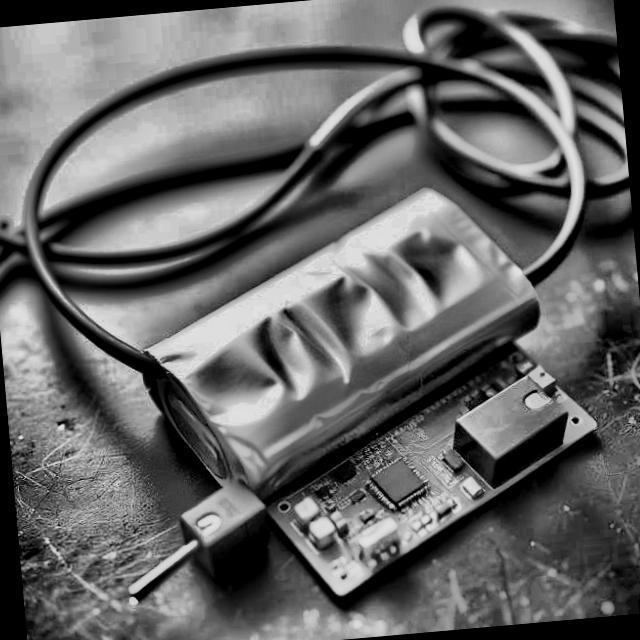Battery: (135, 181, 550, 506)
Cable: (0, 1, 630, 366)
PCB: (256, 336, 599, 595)
